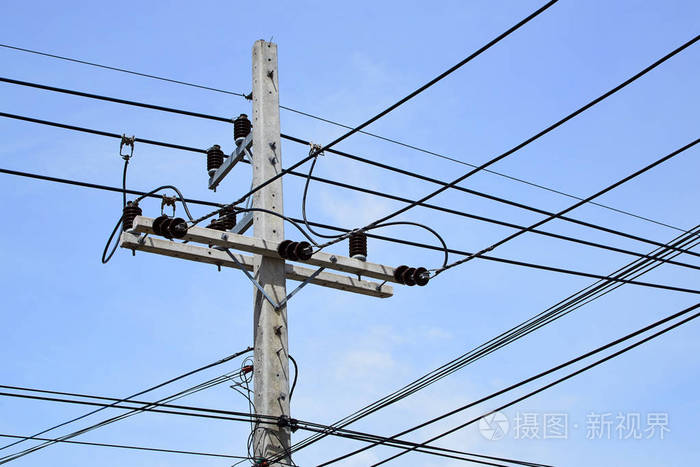insulator: (276, 237, 315, 264), (153, 214, 186, 241), (395, 264, 431, 287)
